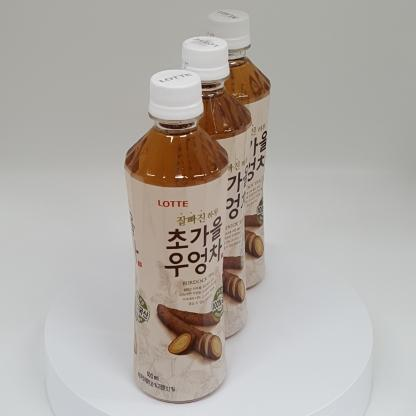----------500ML: (124, 69, 229, 404)
